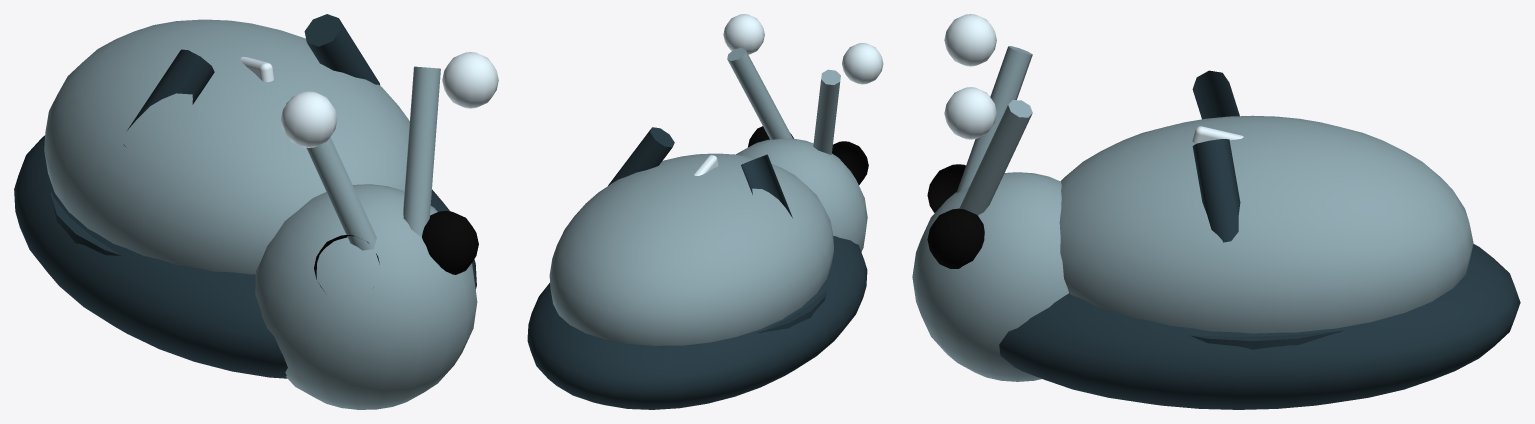
The model's file is tifon.obj.
The picture shows the model from 3 angles, left to right: view 1: azimuth 30°, elevation 25°; view 2: azimuth 150°, elevation 25°; view 3: azimuth 270°, elevation 25°; orthographic projection. The views are drawn at different scales.
Bounding box in the file's own units: 0.472 × 0.446 × 0.7635.
